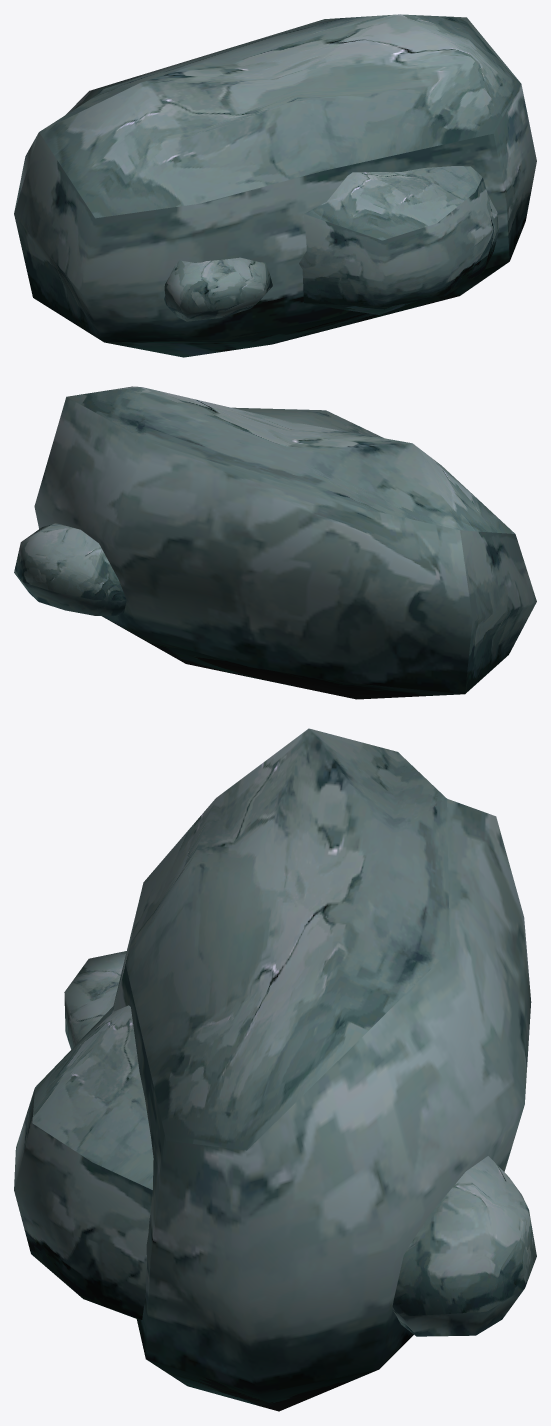
The model's file is dro_env_cover_rock_wide_01.glb.
3 views of the same model, one above another, from view 1: azimuth 30°, elevation 25°; view 2: azimuth 150°, elevation 25°; view 3: azimuth 270°, elevation 25° (orthographic). The views are drawn at different scales.
Parts seen in each view (by area): view 1: dro_junglerock09; view 2: dro_junglerock09; view 3: dro_junglerock09.
Part boxes in pixels (x1,y1,x2,y2): dro_junglerock09: [14, 14, 536, 357]; dro_junglerock09: [14, 386, 536, 699]; dro_junglerock09: [14, 728, 536, 1411].
Size of the model in its own units: 0.2986 by 0.1619 by 0.1723.
1 material, 1 textured.
